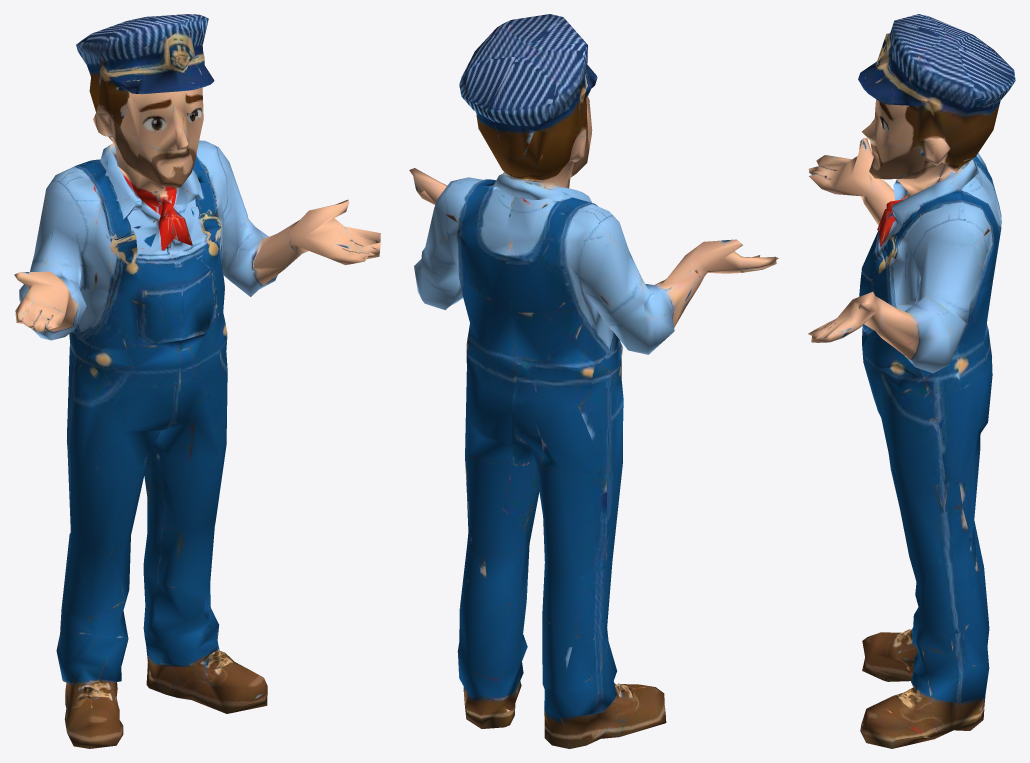
Rendered from operador_ra.glb.
The picture shows the model from 3 angles, left to right: view 1: azimuth 30°, elevation 25°; view 2: azimuth 150°, elevation 25°; view 3: azimuth 270°, elevation 25°; orthographic projection.
Size of the model in its own units: 1.04 by 1.89 by 0.5233.
Materials: 1 (1 with a texture image).
